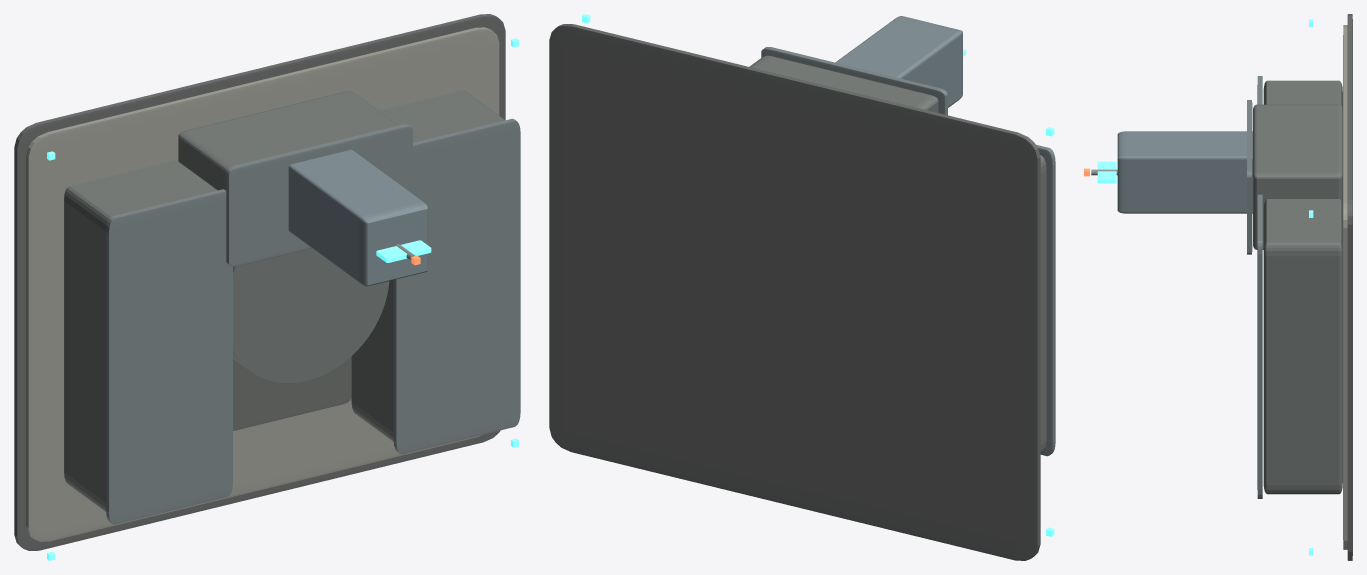
Rendered from b-27-academy-lod1.glb.
The picture shows the model from 3 angles, left to right: view 1: azimuth 30°, elevation 25°; view 2: azimuth 150°, elevation 25°; view 3: azimuth 270°, elevation 25°; orthographic projection. The views are drawn at different scales.
Parts seen in each view (by area): view 1: foundation_inner_pad, academy_west_roof, academy_east_roof, academy_west_main_hall, academy_dome_hall, foundation, academy_tower, academy_north_roof, academy_north_main_hall, academy_east_main_hall, primary_courtyard, academy_beacon_array_0; view 2: foundation, academy_tower, academy_west_roof, academy_north_main_hall, academy_west_main_hall, academy_north_roof; view 3: academy_east_main_hall, academy_tower, academy_north_main_hall, foundation, foundation_inner_pad, academy_west_main_hall, academy_east_roof, academy_north_roof, academy_beacon_array_0.
Boxes of the visible parts, x1,y1,x2,y2 form: foundation_inner_pad: (26,27,499,541); academy_west_roof: (106,189,232,524); academy_east_roof: (393,118,520,454); academy_west_main_hall: (64,160,217,511); academy_dome_hall: (233,248,389,382); foundation: (14,14,505,550); academy_tower: (288,149,427,286); academy_north_roof: (226,124,412,266); academy_north_main_hall: (178,91,398,190); academy_east_main_hall: (351,90,504,441); primary_courtyard: (233,357,351,430); academy_beacon_array_0: (376,240,431,262); foundation: (549,24,1040,560); academy_tower: (835,16,962,107); academy_west_roof: (1036,144,1055,456); academy_north_main_hall: (749,55,938,112); academy_west_main_hall: (1040,155,1046,453); academy_north_roof: (761,47,947,115); academy_east_main_hall: (1263,199,1342,494); academy_tower: (1117,131,1252,213); academy_north_main_hall: (1253,104,1342,249); foundation: (1347,14,1352,560); foundation_inner_pad: (1343,25,1347,549); academy_west_main_hall: (1263,80,1342,108); academy_east_roof: (1257,194,1262,498); academy_north_roof: (1247,100,1252,254); academy_beacon_array_0: (1097,161,1116,183).
Size of what is drawn, in the model's own units: 18 by 15 by 10.17.
